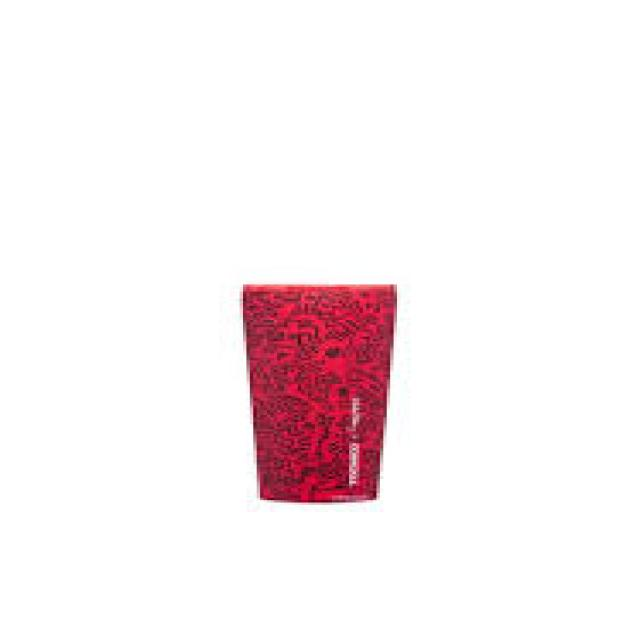bottle: (238, 282, 400, 503)
